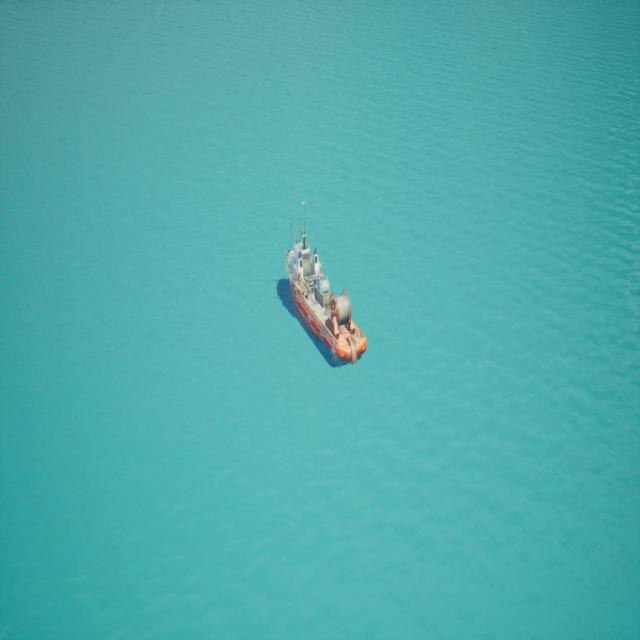tug boat: (284, 202, 344, 368)
